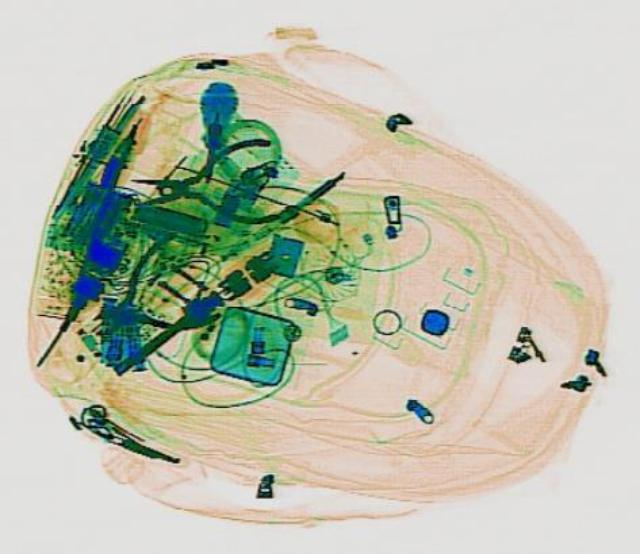Pliers: (59, 227, 237, 365), (125, 134, 281, 229)
